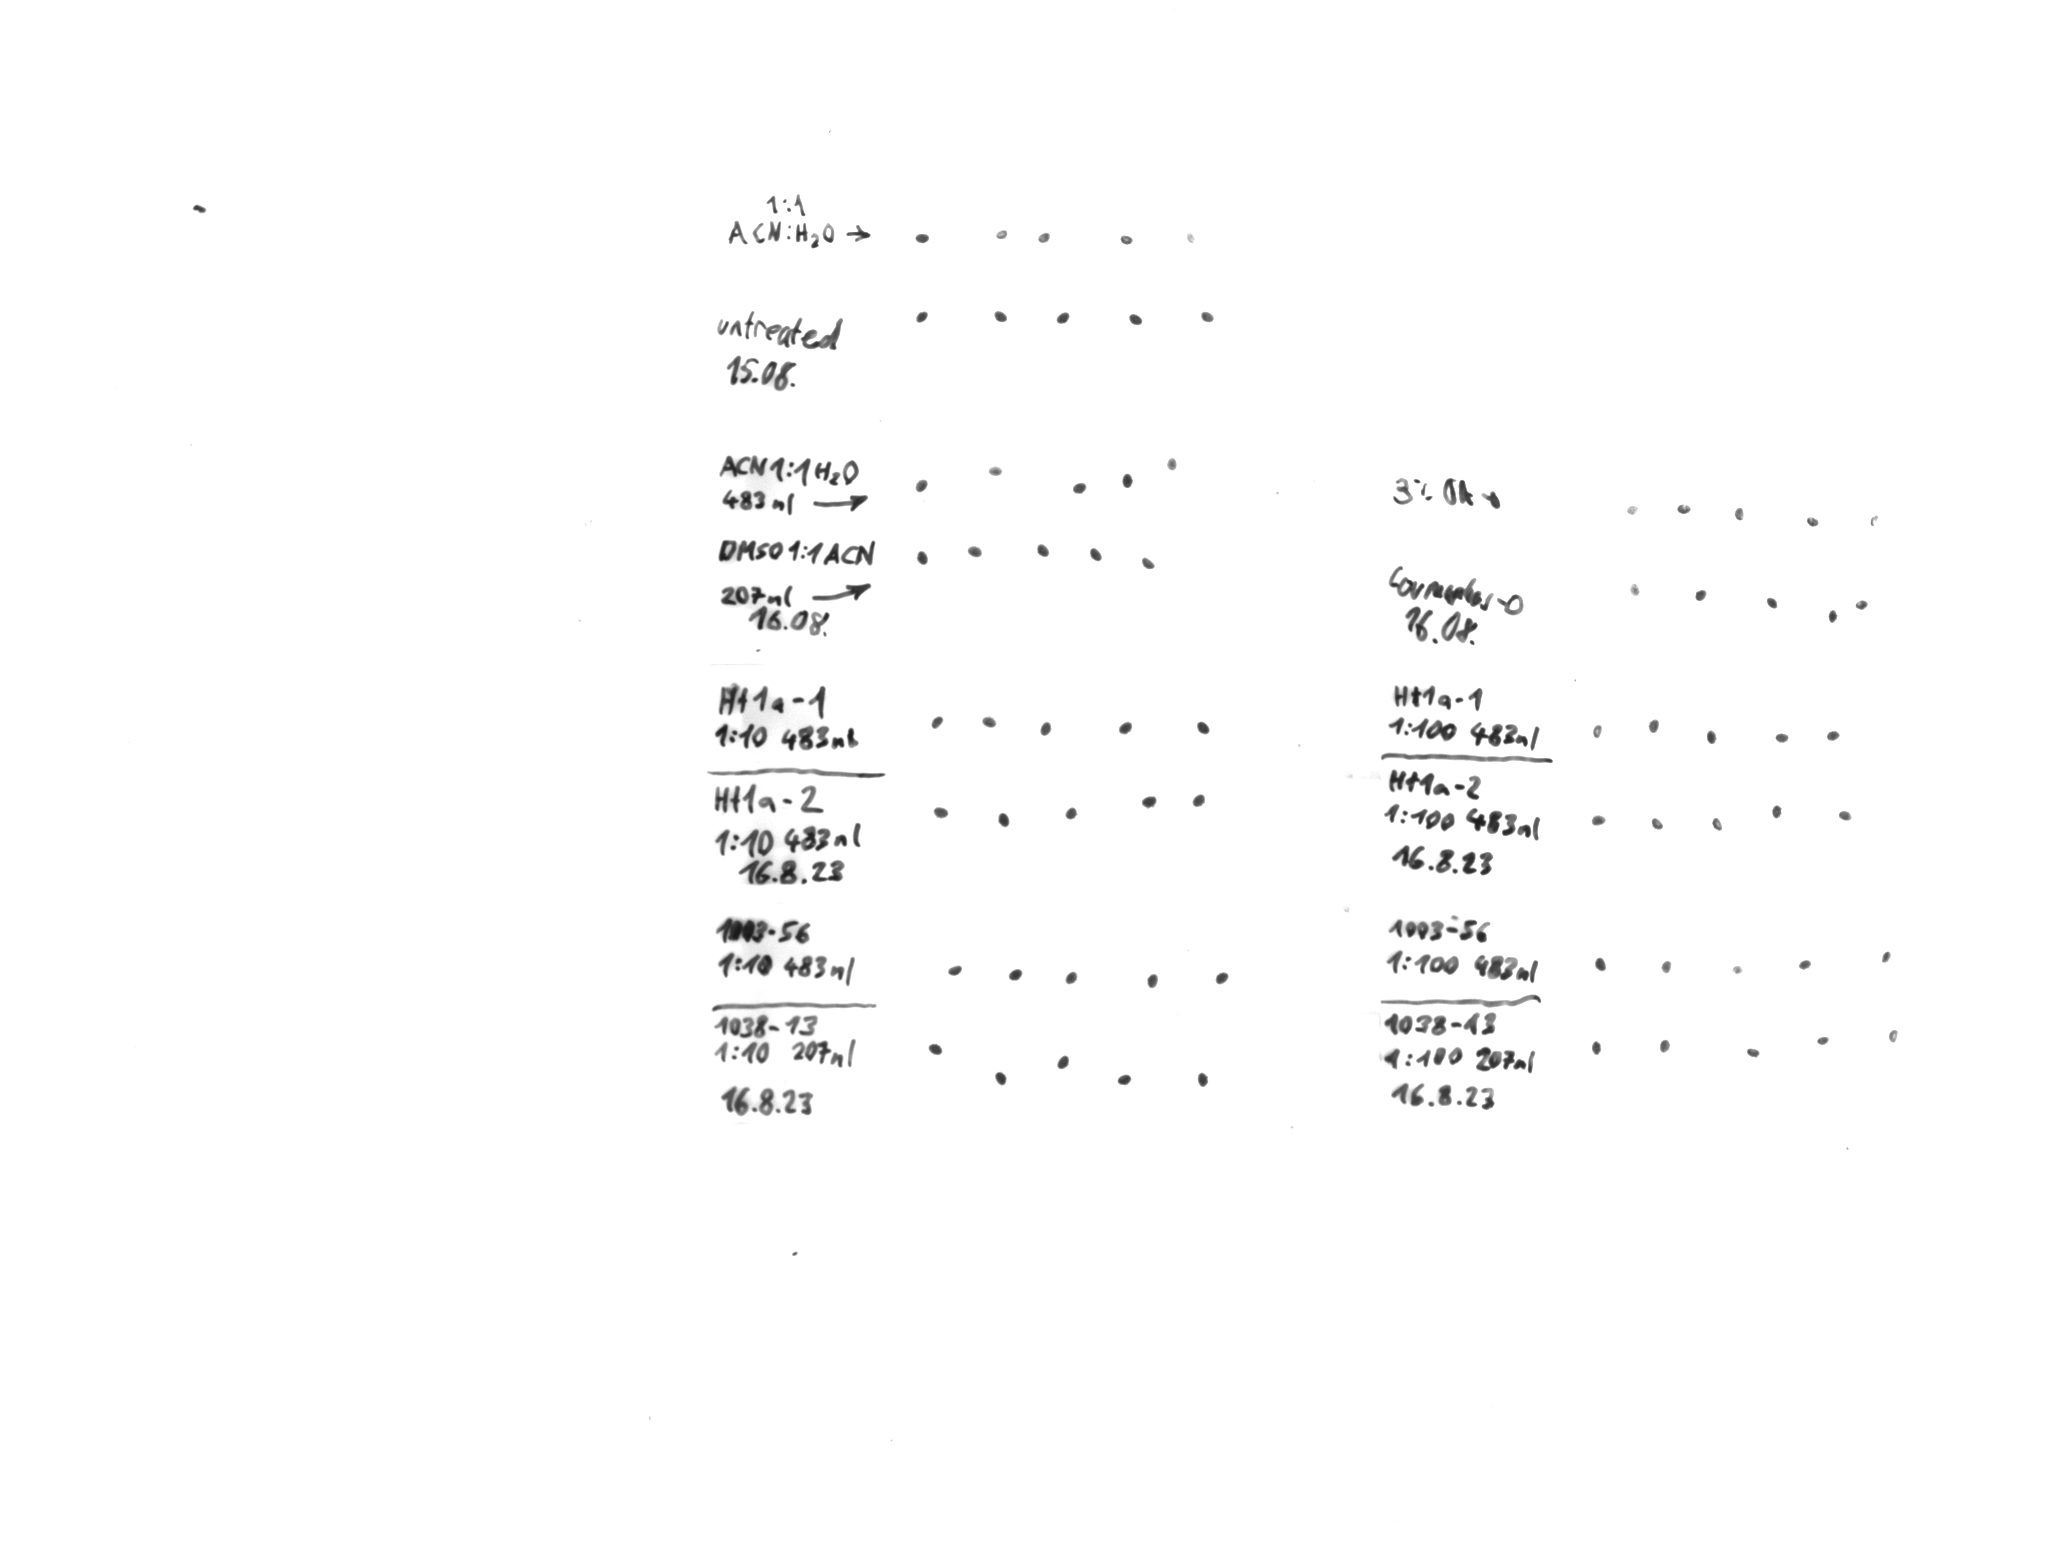varroa: (916, 548, 931, 568), (1195, 720, 1211, 736), (996, 813, 1012, 829), (1062, 970, 1078, 986), (1120, 472, 1135, 490), (968, 543, 983, 560), (1034, 542, 1051, 556), (1141, 556, 1156, 573), (981, 712, 996, 728), (1117, 718, 1132, 735), (1056, 1054, 1070, 1070), (1054, 310, 1068, 324), (929, 714, 944, 728), (1064, 804, 1078, 819), (1192, 793, 1206, 808), (992, 1070, 1007, 1085), (1119, 234, 1135, 247), (991, 310, 1007, 323), (1007, 968, 1023, 981), (1213, 971, 1229, 984), (1704, 728, 1717, 744), (1774, 731, 1790, 744), (1125, 313, 1143, 324), (913, 480, 931, 491), (914, 310, 929, 323), (1200, 310, 1214, 323), (987, 464, 1002, 477), (1090, 547, 1103, 561), (1038, 723, 1052, 736), (947, 963, 961, 976), (927, 1043, 942, 1056), (1195, 1074, 1210, 1087), (1805, 514, 1819, 527), (1594, 957, 1607, 971), (913, 232, 929, 243), (1072, 482, 1088, 493), (1166, 456, 1177, 472), (932, 806, 948, 817), (1141, 796, 1158, 808), (1146, 971, 1158, 988), (1647, 717, 1659, 733), (1676, 503, 1689, 516), (1693, 589, 1706, 602), (1651, 817, 1664, 830), (1659, 960, 1672, 973), (1878, 950, 1891, 963), (992, 229, 1007, 240), (1036, 232, 1051, 243), (1117, 1074, 1132, 1085), (1764, 598, 1779, 610), (1855, 598, 1869, 610), (1826, 730, 1840, 741), (1796, 959, 1811, 970), (1712, 817, 1724, 830), (1837, 809, 1850, 821), (1659, 1040, 1670, 1053), (1887, 1030, 1899, 1043), (1827, 610, 1837, 624), (1591, 723, 1600, 738), (1591, 816, 1605, 826), (1814, 1036, 1829, 1046), (1185, 234, 1197, 245), (1626, 504, 1638, 516), (1730, 963, 1741, 975), (1748, 1048, 1759, 1059), (1629, 584, 1639, 597), (1591, 1041, 1600, 1054), (1735, 506, 1743, 521), (1772, 804, 1780, 819), (1869, 516, 1878, 527)
